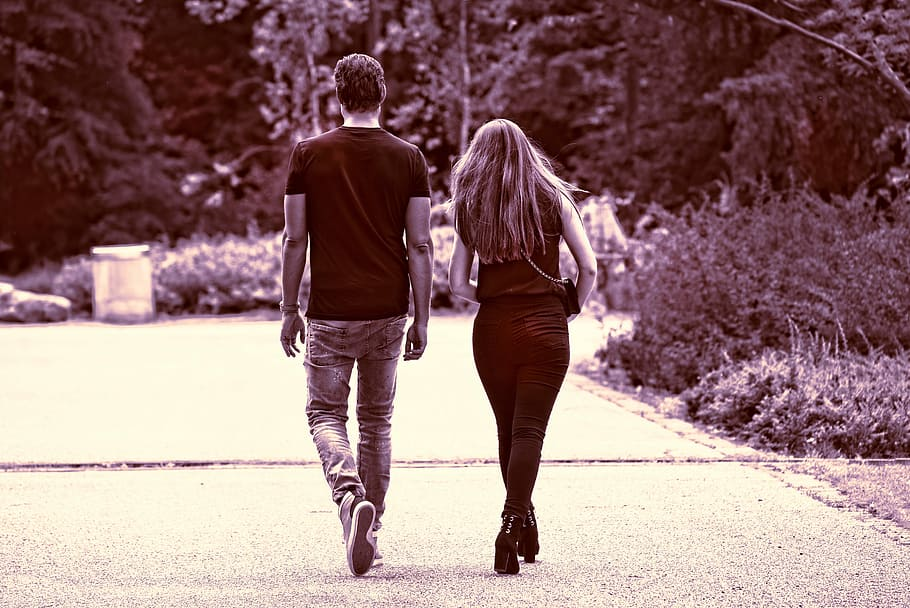person: (272, 49, 438, 579), (442, 108, 605, 583)
